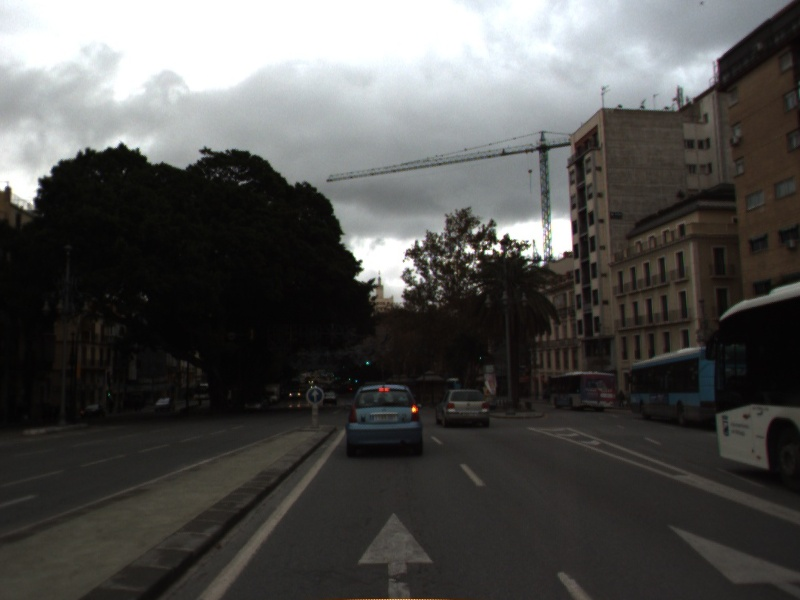STRAIGHT: (662, 520, 800, 600), (353, 508, 438, 600)
